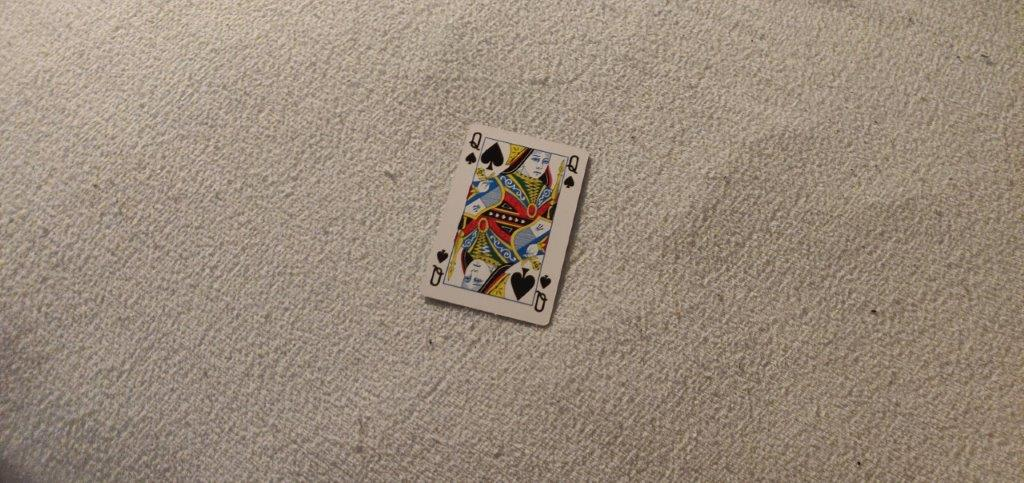QS: (463, 128, 484, 168), (562, 154, 584, 192)
